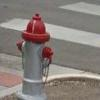Hydrant: (8, 5, 60, 100)
